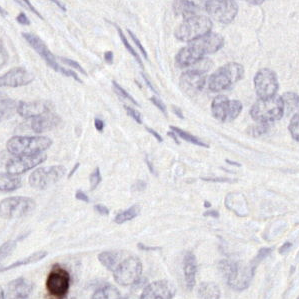Lymphocyte: (46, 264, 71, 296)
